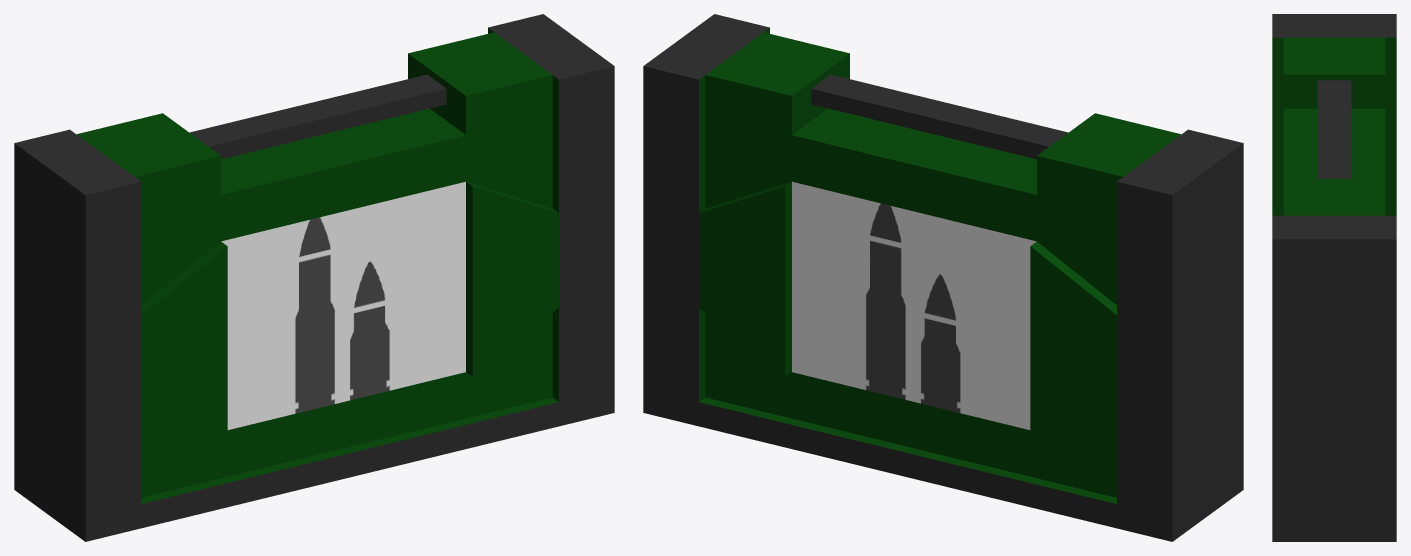
File: item_dangan.fbx
The picture shows the model from 3 angles, left to right: view 1: azimuth 30°, elevation 25°; view 2: azimuth 150°, elevation 25°; view 3: azimuth 270°, elevation 25°; orthographic projection. The views are drawn at different scales.
Parts seen in each view (by area): view 1: Box001; view 2: Box001; view 3: Box001.
Part boxes in pixels (x1,y1,x2,y2): Box001: (14,14,614,541); Box001: (643,14,1243,541); Box001: (1272,14,1396,541).
Size of the model in its own units: 90.22 by 21.03 by 56.49.
